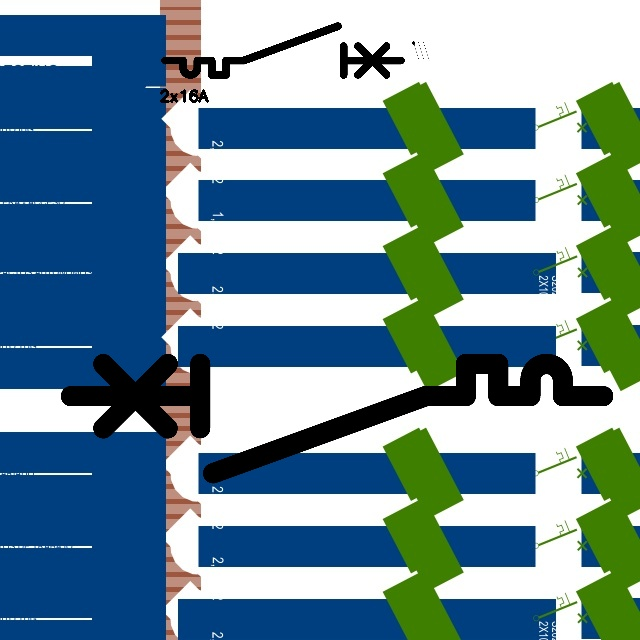interruptor_termomagnetico: (57, 350, 617, 487), (159, 20, 407, 81)
